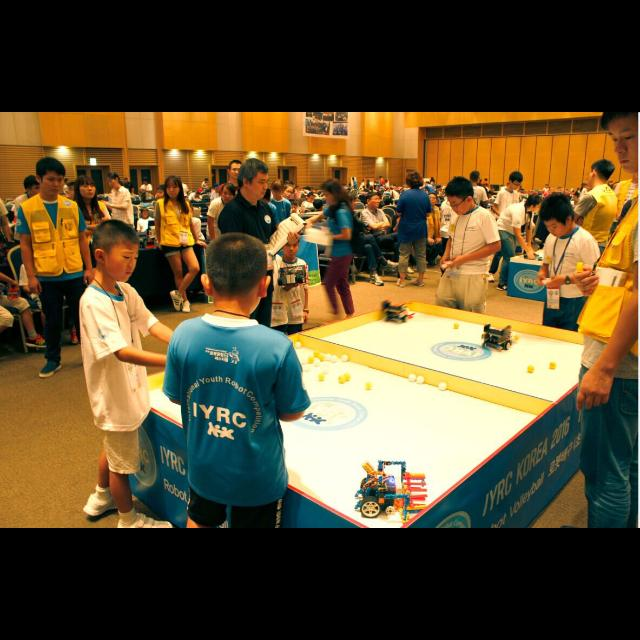head: (200, 233, 272, 315), (91, 220, 140, 284), (542, 197, 574, 240), (238, 158, 270, 200), (35, 159, 65, 197), (446, 178, 474, 216), (586, 159, 616, 187), (586, 160, 612, 188), (322, 178, 344, 206), (280, 234, 302, 258), (75, 176, 97, 200), (524, 193, 546, 214), (24, 176, 44, 198), (165, 176, 182, 200), (221, 182, 237, 205), (258, 232, 276, 252), (226, 160, 244, 180), (508, 172, 524, 192), (271, 180, 285, 198), (408, 172, 422, 188), (106, 173, 120, 189), (30, 246, 44, 262), (367, 194, 381, 208), (448, 186, 462, 200), (344, 195, 356, 211), (260, 188, 272, 202), (428, 193, 438, 207), (140, 208, 150, 220), (471, 172, 482, 182), (400, 207, 410, 217), (144, 179, 150, 185)
person: (215, 156, 308, 410), (15, 154, 107, 382), (529, 191, 605, 405), (431, 175, 502, 369), (561, 156, 619, 368), (64, 173, 124, 363), (301, 176, 369, 330), (12, 174, 64, 348), (152, 173, 208, 317), (248, 225, 288, 395), (16, 246, 80, 352), (332, 194, 400, 288), (272, 227, 310, 395), (216, 158, 258, 308), (494, 192, 548, 294), (358, 190, 416, 282), (100, 170, 136, 306), (484, 170, 526, 284), (393, 169, 432, 289), (206, 182, 240, 308), (265, 178, 295, 296), (456, 170, 490, 274), (250, 184, 280, 296), (438, 184, 470, 286), (391, 206, 422, 278), (420, 192, 448, 270), (135, 206, 157, 254), (137, 176, 153, 222)
